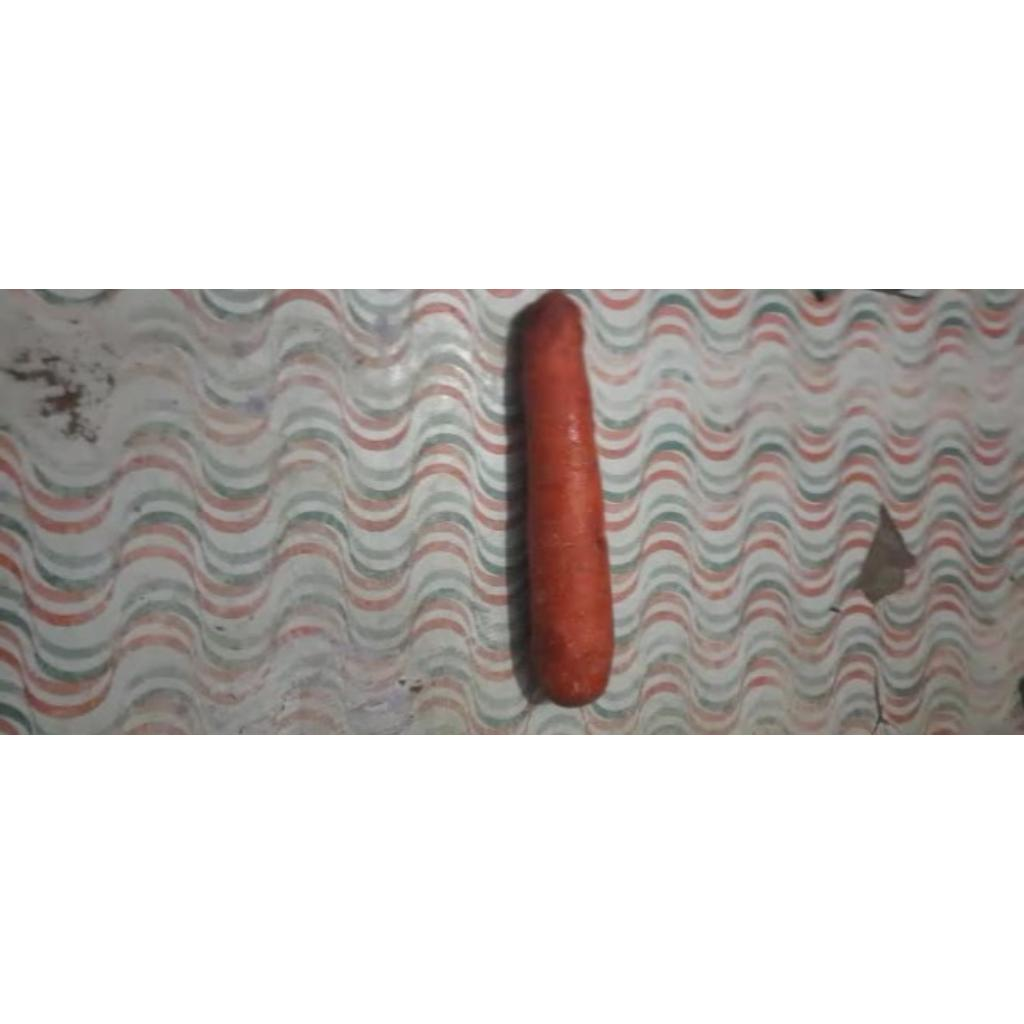carrot: (522, 293, 614, 706)
